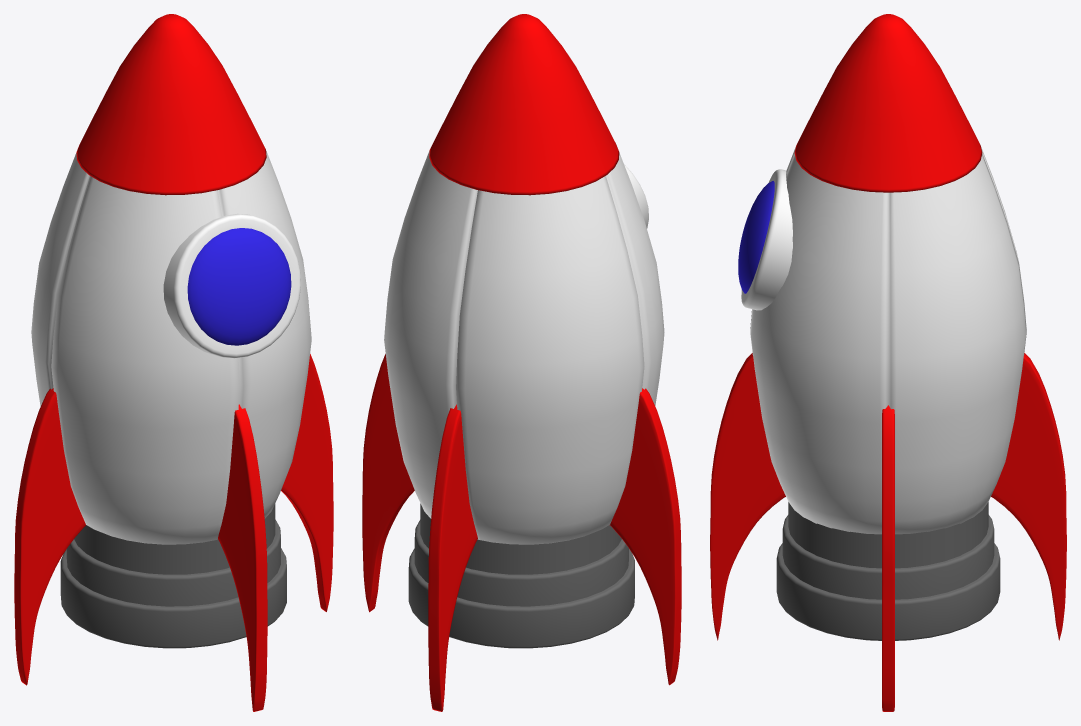
File: Toy_Rocket5.gltf
3 renders of one model, left to right at view 1: azimuth 30°, elevation 25°; view 2: azimuth 150°, elevation 25°; view 3: azimuth 270°, elevation 25°, orthographic.
Visible parts, largest first — view 1: Body, Wings, Tip, Engine, Window.001, Window; view 2: Body, Wings, Tip, Engine; view 3: Body, Wings, Tip, Engine, Window, Window.001.
Part boxes in pixels (x1,y1,x2,y2): Body: [31, 150, 311, 544]; Wings: [14, 354, 333, 711]; Tip: [76, 14, 266, 195]; Engine: [60, 504, 286, 648]; Window.001: [187, 228, 291, 345]; Window: [163, 213, 300, 358]; Body: [384, 150, 664, 544]; Wings: [362, 354, 681, 711]; Tip: [429, 14, 619, 195]; Engine: [408, 503, 634, 648]; Body: [750, 147, 1026, 534]; Wings: [710, 353, 1066, 711]; Tip: [794, 14, 982, 192]; Engine: [776, 502, 1000, 640]; Window: [741, 169, 792, 310]; Window.001: [738, 181, 774, 293].
Bounding box in the file's own units: 1.63 × 3.12 × 1.63.
